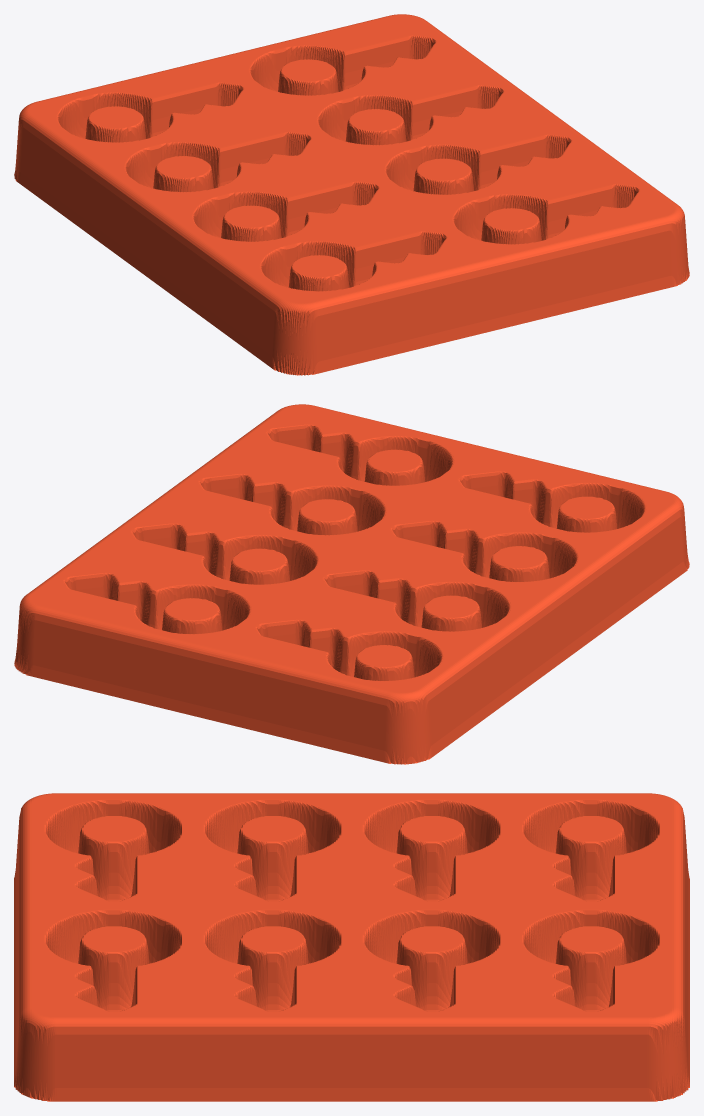
Rendered from mold.glb.
3 renders of one model, top to bottom at view 1: azimuth 30°, elevation 25°; view 2: azimuth 150°, elevation 25°; view 3: azimuth 270°, elevation 25°, orthographic. The views are drawn at different scales.
Visible parts, largest first — view 1: geometry_0; view 2: geometry_0; view 3: geometry_0.
Part boxes in pixels (<box>): geometry_0: <box>14,14,689,375</box>; geometry_0: <box>14,404,689,764</box>; geometry_0: <box>14,793,689,1101</box>.
Size of the model in its own units: 0.1222 by 0.0185 by 0.1471.
